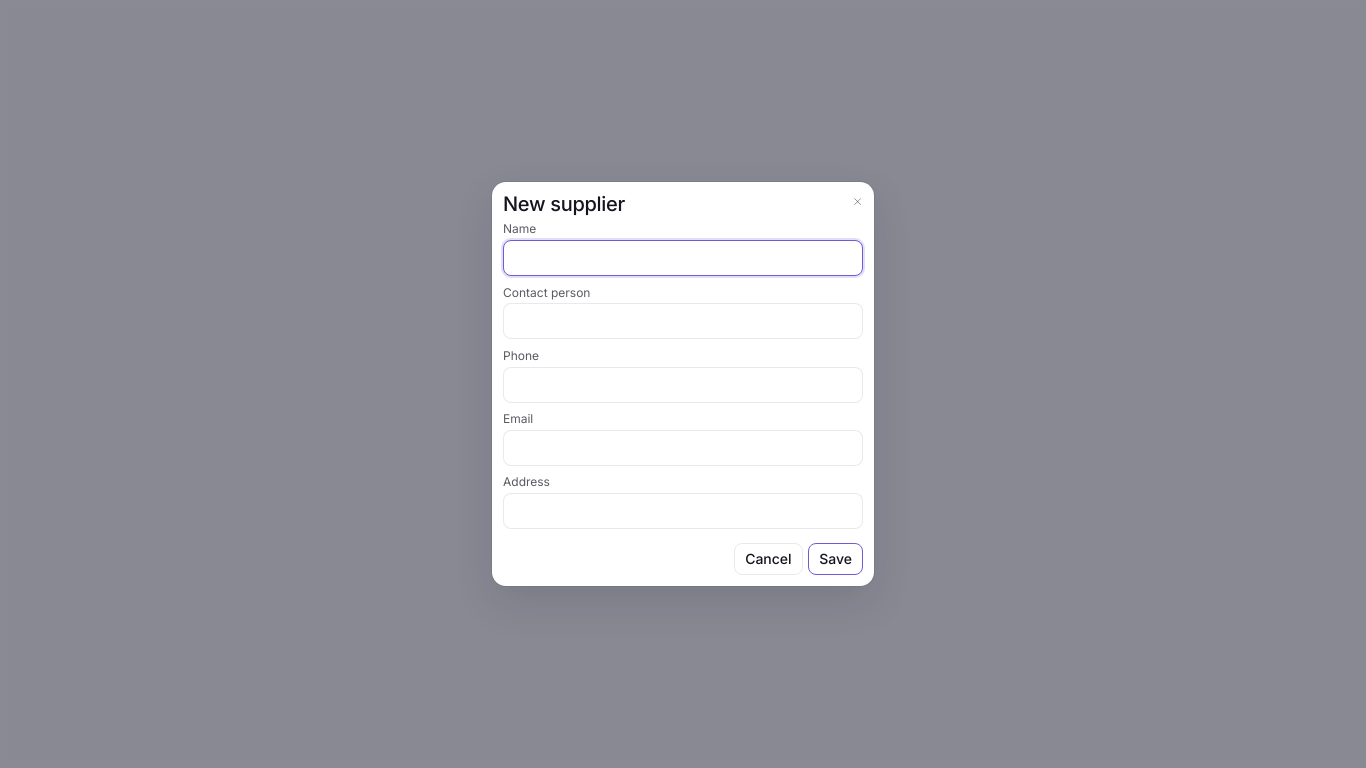
Test: SupplierFormDialog › shows a validation error and does not submit when name is blank
Click the button "Save" at point(836, 559), box [808, 543, 863, 574]
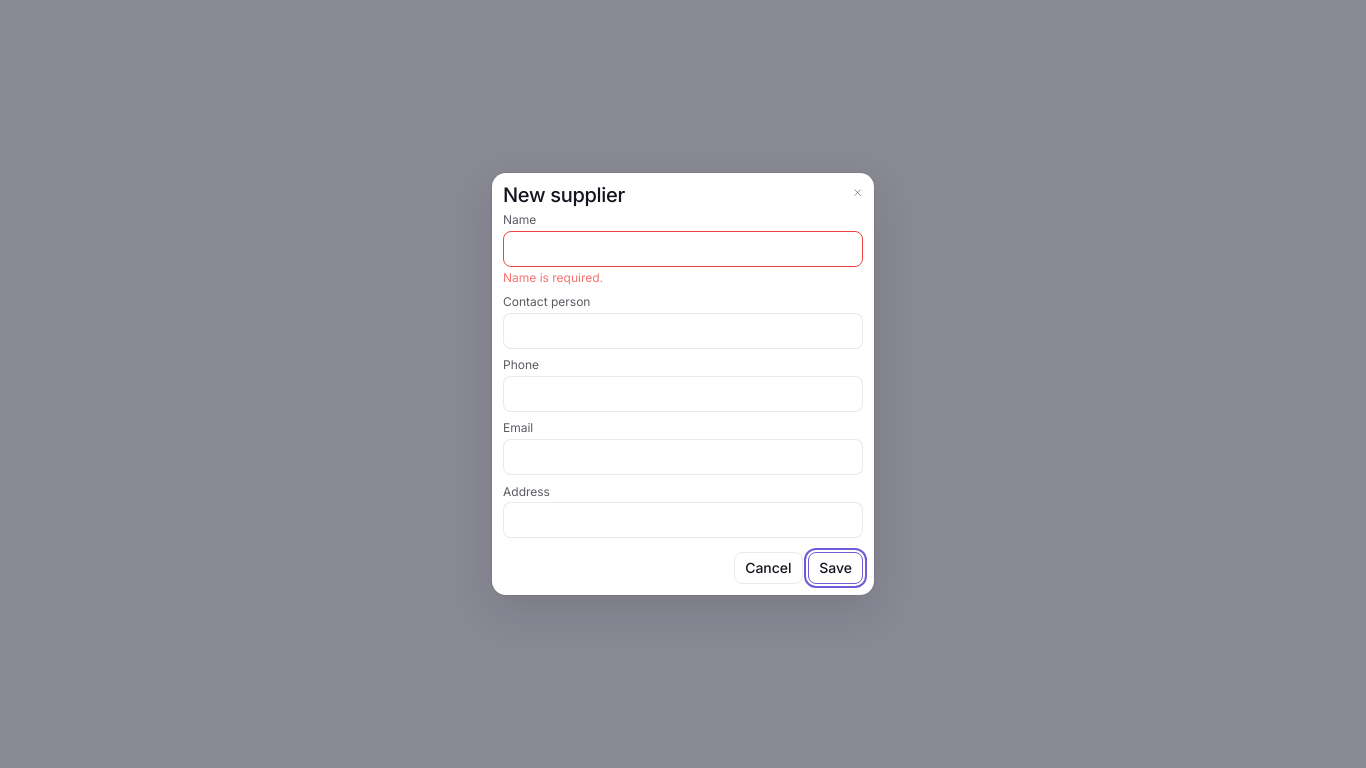
Now the text "Name is required." is shown, box [503, 270, 603, 285]
